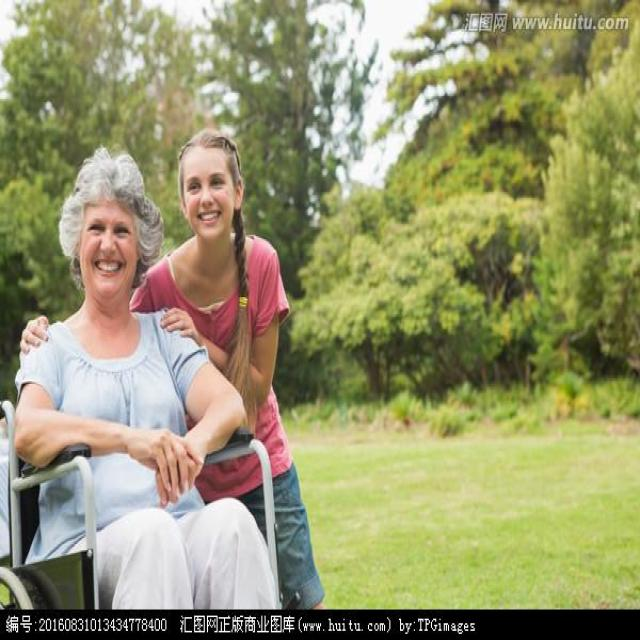wheelchairs: (0, 376, 297, 609)
